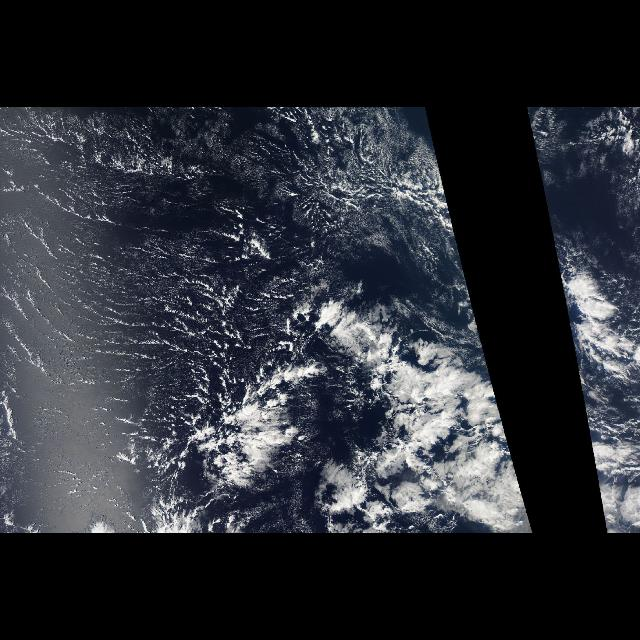Sugar: (4, 108, 448, 450)
